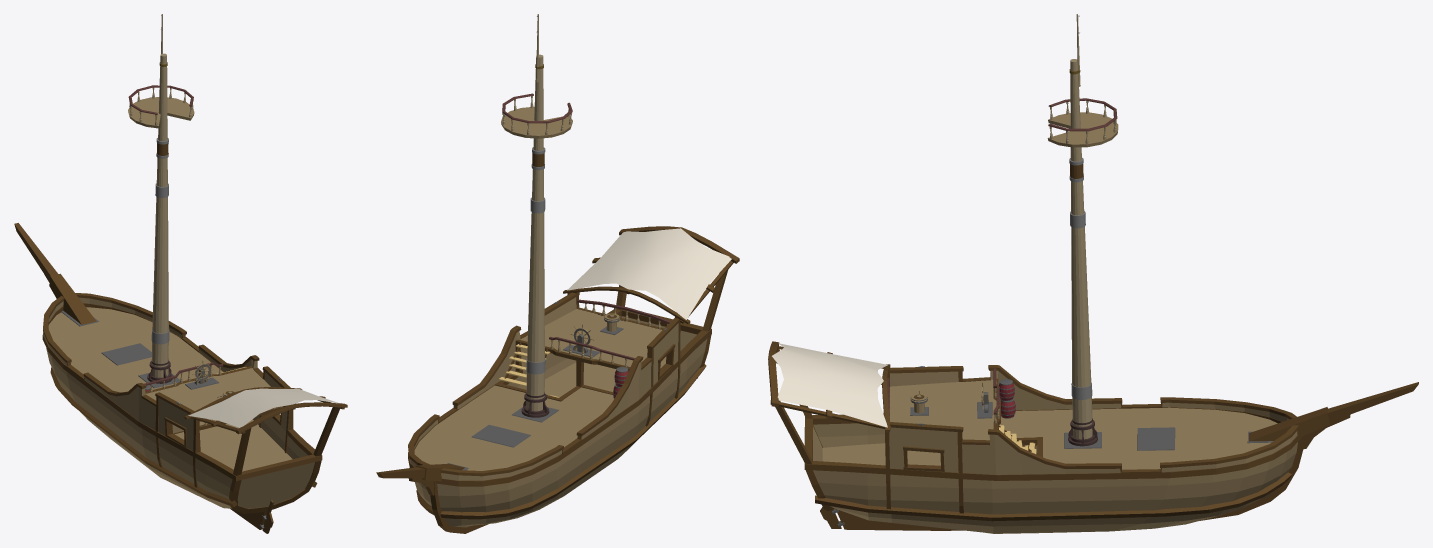
Rendered from sloop-hull.glb.
3 renders of one model, left to right at view 1: azimuth 30°, elevation 25°; view 2: azimuth 150°, elevation 25°; view 3: azimuth 270°, elevation 25°, orthographic. The views are drawn at different scales.
Visible parts, largest first — view 1: Cube.004, Cube, Cylinder, Cube.002, Cube.027, Plane, Cube.014, Cube.006, Cube.023, Cube.003, Cylinder.076, Cube.015 (+9 smaller); view 2: Cube.004, Cube, Plane, Cylinder, Cube.023, Cube.014, Cube.002, Cube.003, Cube.015, Cube.027, Cylinder.076, Cube.012 (+9 smaller); view 3: Cube, Cube.004, Cube.014, Plane, Cylinder, Cube.002, Cube.023, Cube.003, Cube.015, Cube.012, Cube.001, Cube.027 (+5 smaller).
Part boxes in pixels (<box>): Cube.004: <box>48,307,223,392</box>; Cube: <box>46,348,307,508</box>; Cylinder: <box>152,53,168,377</box>; Cube.002: <box>42,303,322,481</box>; Cube.027: <box>175,419,292,471</box>; Plane: <box>188,388,338,427</box>; Cube.014: <box>85,349,287,450</box>; Cube.006: <box>237,462,314,508</box>; Cube.023: <box>145,368,270,425</box>; Cube.003: <box>50,367,317,507</box>; Cylinder.076: <box>128,97,194,128</box>; Cube.015: <box>83,344,290,413</box>; Cube.004: <box>414,385,613,470</box>; Cube: <box>415,316,707,527</box>; Plane: <box>567,228,731,319</box>; Cylinder: <box>526,54,544,411</box>; Cube.023: <box>519,309,662,366</box>; Cube.014: <box>457,297,678,439</box>; Cube.002: <box>408,309,711,486</box>; Cube.003: <box>416,364,706,519</box>; Cube.015: <box>452,292,680,436</box>; Cube.027: <box>544,356,666,397</box>; Cylinder.076: <box>501,106,572,138</box>; Cube.012: <box>408,414,563,476</box>; Cube: <box>813,423,1297,533</box>; Cube.004: <box>999,407,1277,469</box>; Cube.014: <box>889,370,1121,474</box>; Plane: <box>772,343,887,427</box>; Cylinder: <box>1070,59,1092,439</box>; Cube.002: <box>804,407,1301,480</box>; Cube.023: <box>890,379,996,440</box>; Cube.003: <box>815,472,1291,521</box>; Cube.015: <box>888,365,1122,468</box>; Cube.012: <box>1160,397,1299,467</box>; Cube.001: <box>835,436,1304,530</box>; Cube.027: <box>822,443,940,465</box>.
Size of the model in its own units: 3.7 by 13.07 by 14.96.
